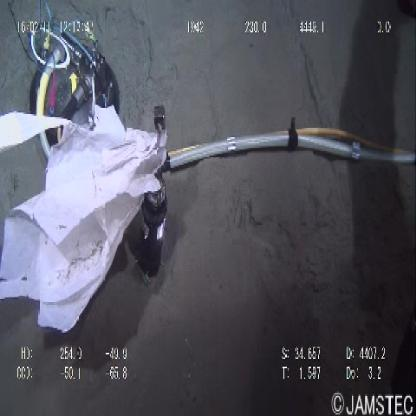Rov: (20, 8, 126, 123)
Rác: (1, 111, 168, 328)
